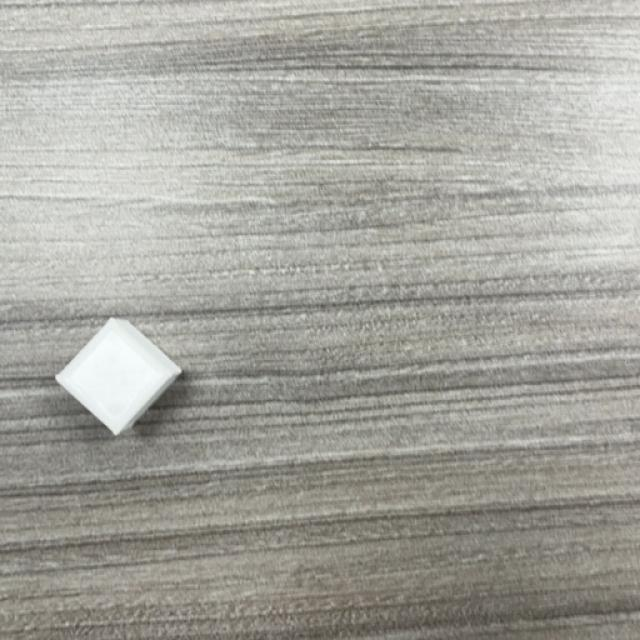Blanco: (54, 319, 184, 438)
